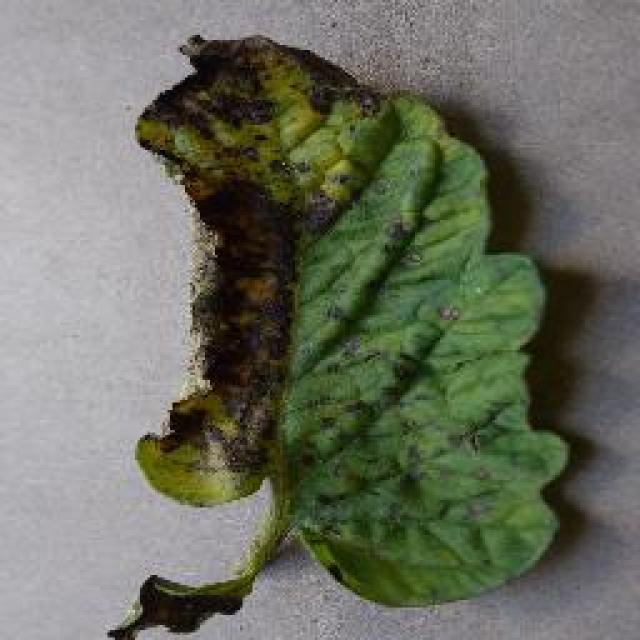Tomato___Early_blight: (104, 31, 579, 638)
